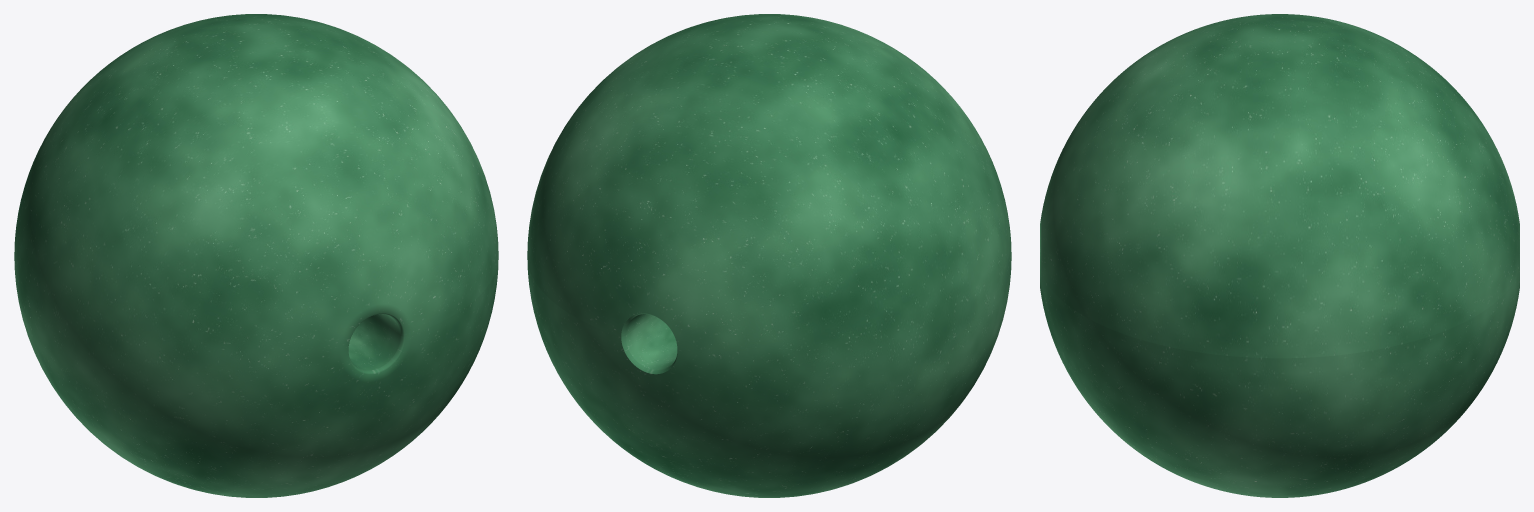
Rendered from green-aventurine.glb.
The picture shows the model from 3 angles, left to right: view 1: azimuth 30°, elevation 25°; view 2: azimuth 150°, elevation 25°; view 3: azimuth 270°, elevation 25°; orthographic projection.
Visible parts, largest first — view 1: green-aventurine.001; view 2: green-aventurine.001; view 3: green-aventurine.001.
Boxes of the visible parts, left/top/right/bottom form: green-aventurine.001: left=14, top=14, right=498, bottom=497; green-aventurine.001: left=527, top=14, right=1011, bottom=497; green-aventurine.001: left=1040, top=14, right=1519, bottom=497.
Bounding box in the file's own units: 0.008 × 0.008 × 0.00793.
Materials: 1 (1 with a texture image).
